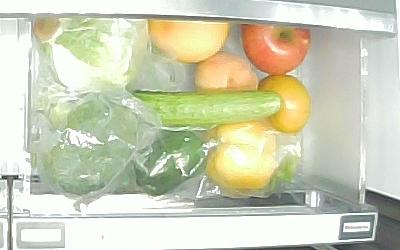apple: (240, 23, 314, 75)
broccoli_vinyl: (35, 96, 138, 196)
cucumber: (127, 89, 283, 127)
grapefruit: (147, 19, 230, 62)
lettuce_vinyl: (31, 19, 139, 100)
paprika_vinyl: (133, 129, 212, 196), (206, 122, 278, 187)
peach: (195, 52, 257, 93)
persimmon: (257, 73, 311, 133)
